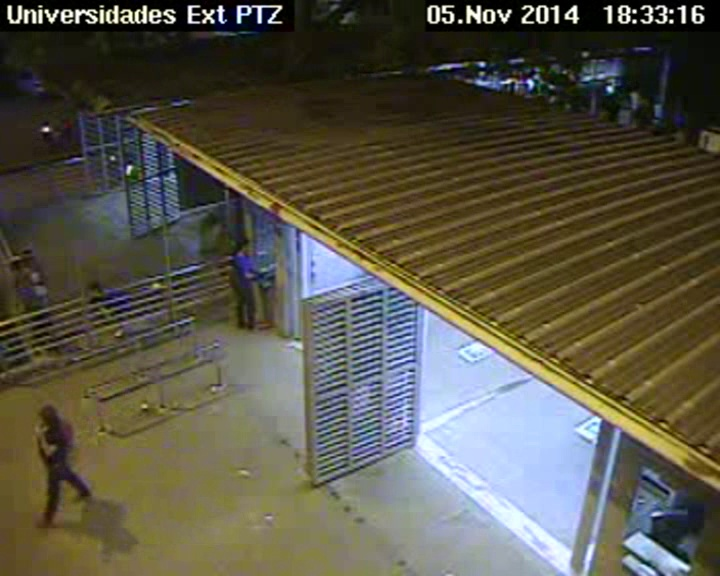person: (42, 404, 62, 425), (235, 236, 252, 254), (86, 280, 103, 296), (205, 211, 219, 225), (11, 258, 25, 271), (22, 248, 33, 258), (32, 262, 41, 271)
